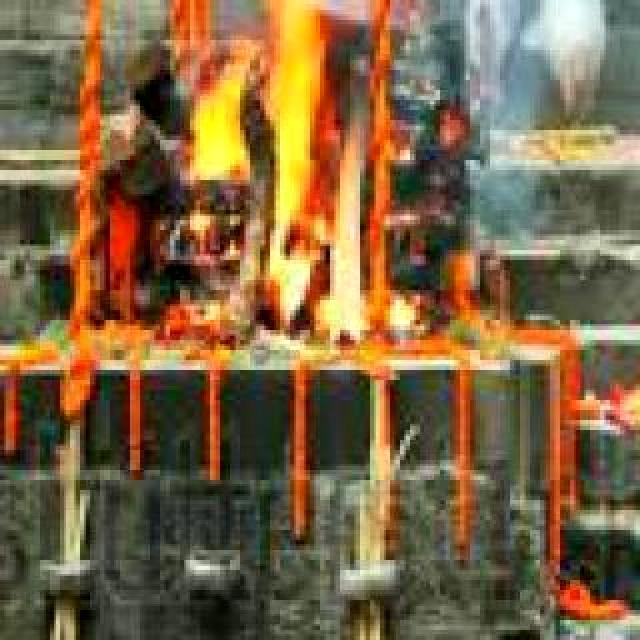fire: (188, 0, 380, 360)
